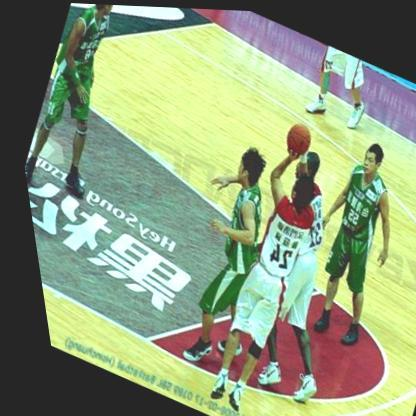basketball: (274, 117, 313, 157)
